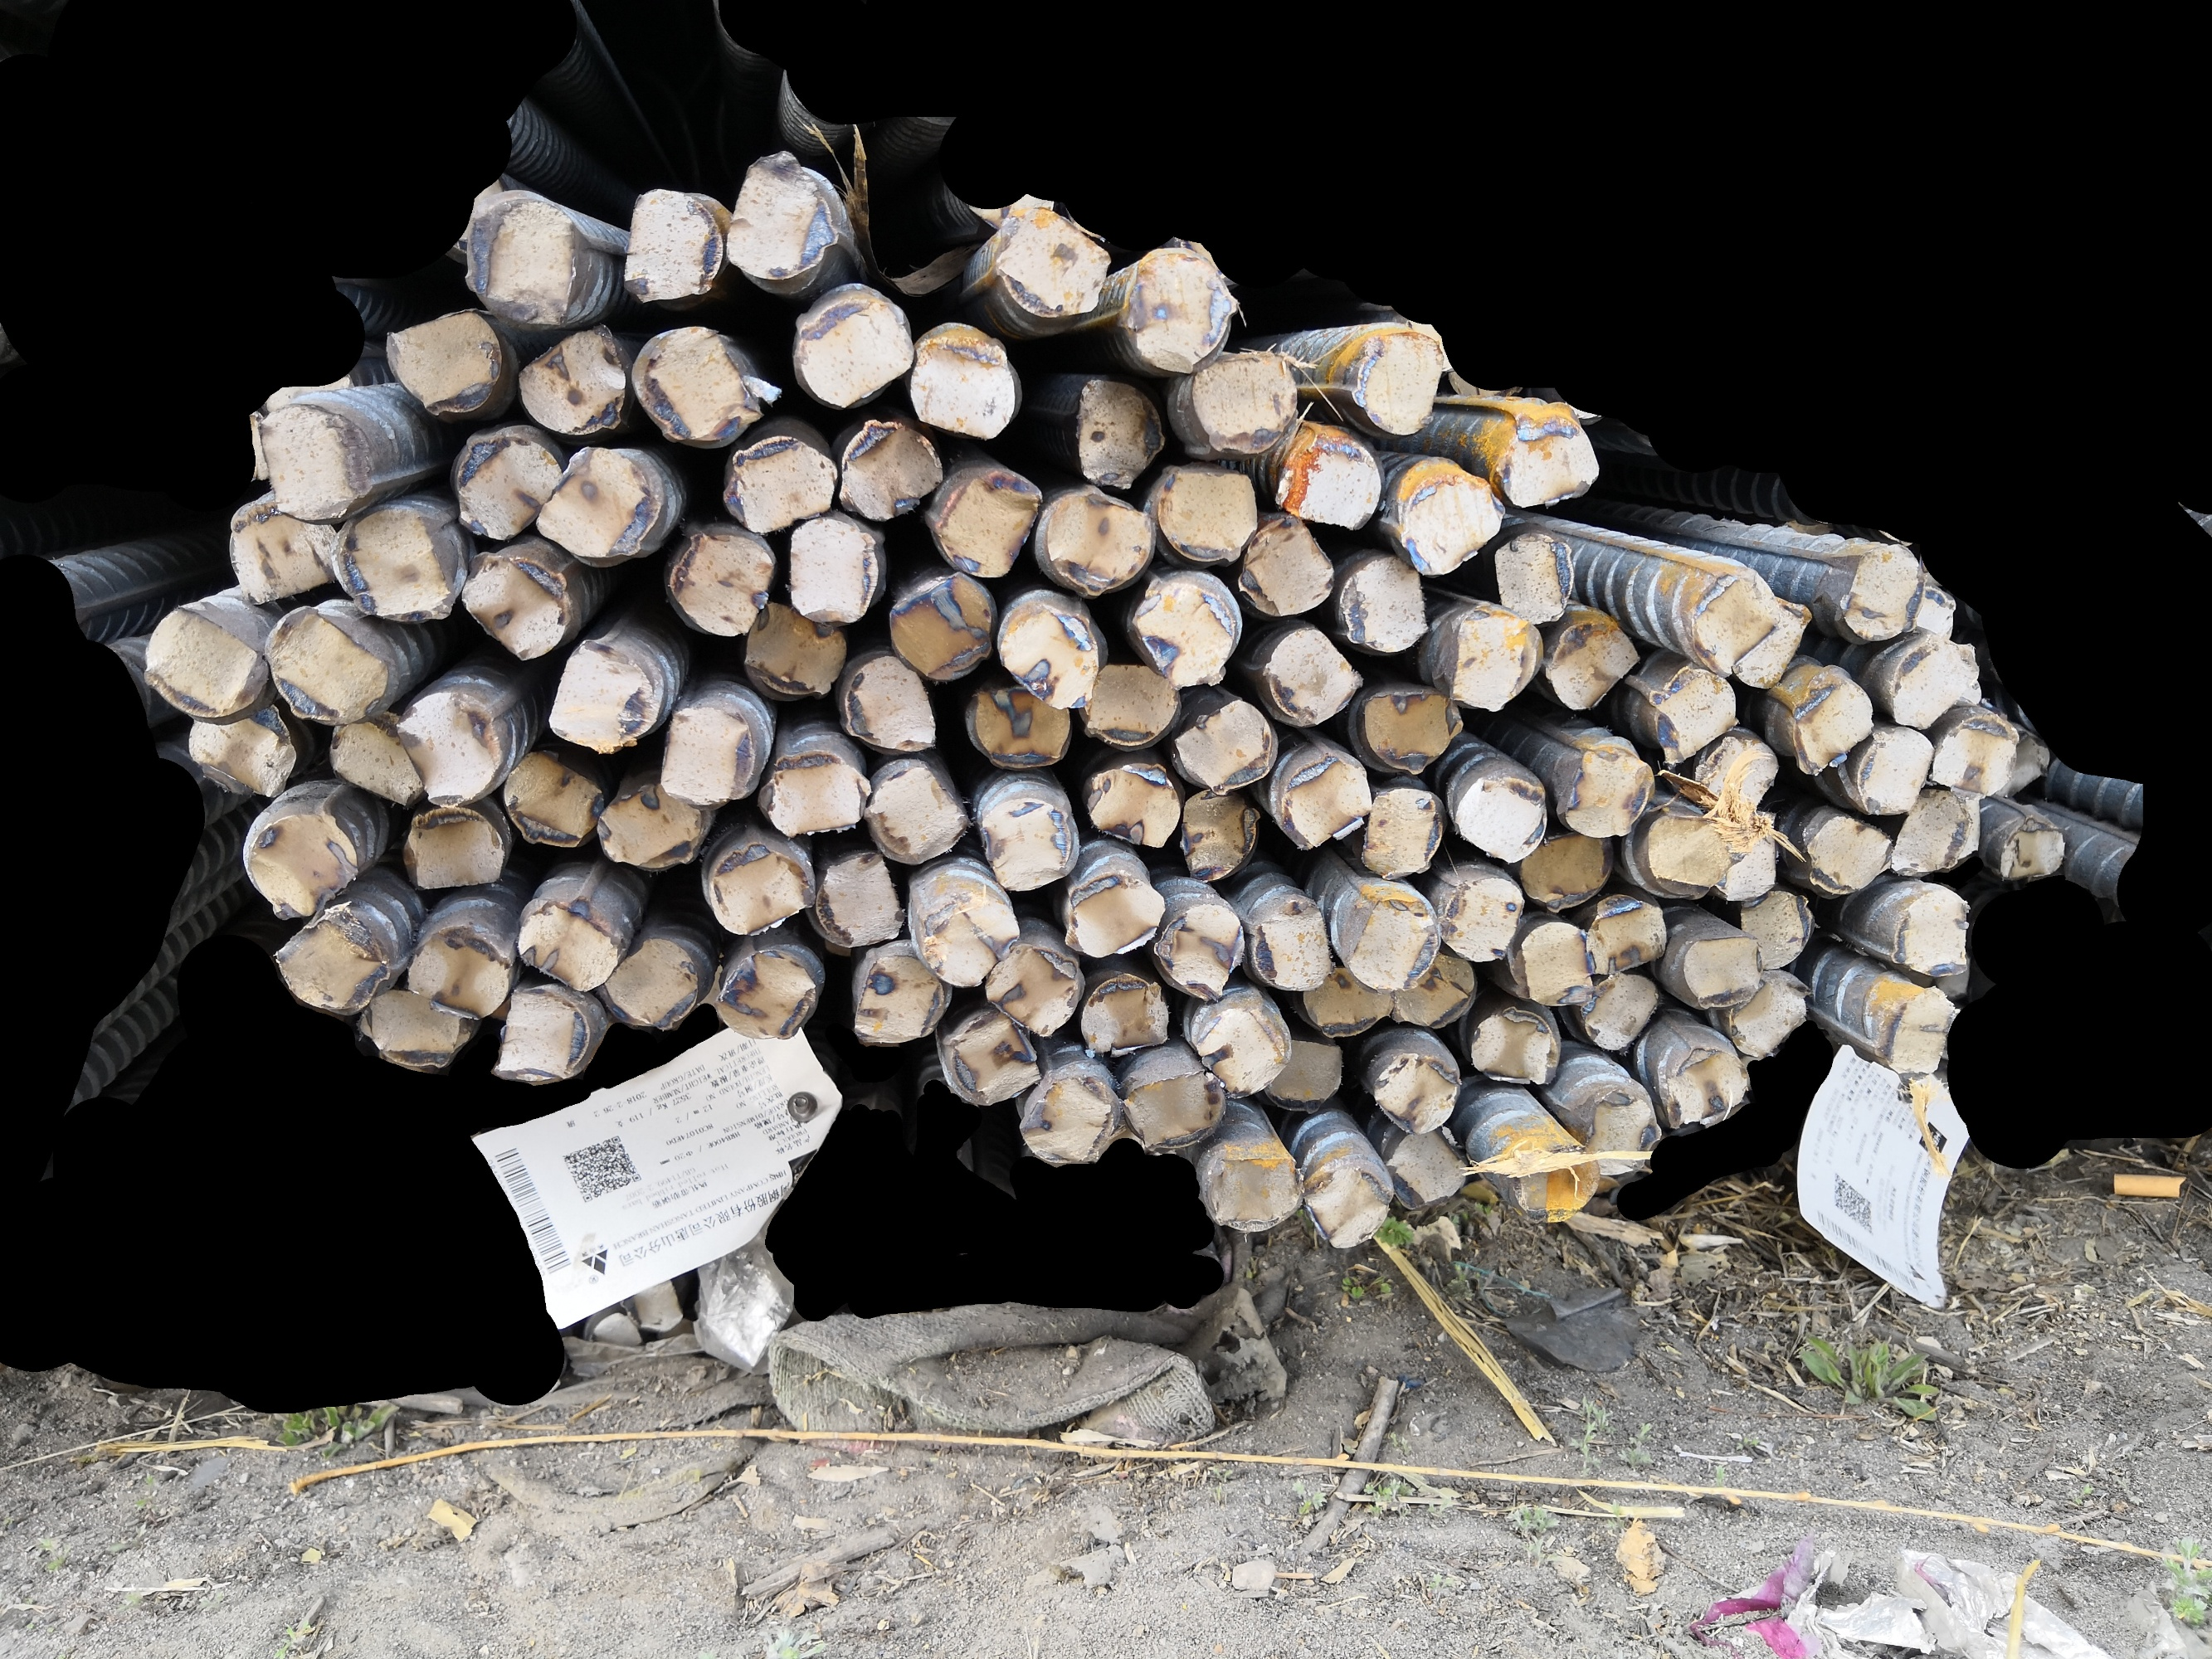rebar: (722, 143, 847, 289), (629, 321, 769, 450), (1117, 239, 1246, 378), (258, 603, 392, 730), (460, 185, 577, 329), (138, 601, 270, 727), (530, 439, 664, 563), (253, 399, 382, 526), (793, 288, 919, 411), (988, 202, 1112, 328), (331, 502, 455, 624), (392, 687, 509, 816), (380, 303, 509, 420), (221, 493, 350, 608), (546, 633, 662, 758), (512, 319, 633, 439), (906, 868, 1023, 992), (905, 321, 1020, 444), (267, 903, 394, 1014), (1123, 572, 1239, 692), (242, 805, 364, 918), (885, 563, 999, 685), (619, 181, 727, 308), (450, 427, 565, 545), (720, 425, 842, 537), (1391, 465, 1508, 580), (1185, 983, 1293, 1107), (1478, 408, 1605, 512), (1191, 345, 1304, 462), (861, 756, 976, 870), (458, 551, 575, 662), (666, 523, 777, 640), (931, 467, 1042, 584), (1269, 425, 1388, 535), (1150, 457, 1264, 570), (988, 599, 1102, 711), (1041, 479, 1156, 589), (830, 415, 947, 523), (1067, 373, 1170, 495), (741, 598, 854, 704), (838, 647, 943, 762), (967, 791, 1084, 894), (784, 511, 885, 629), (354, 983, 481, 1077), (500, 744, 608, 854), (485, 983, 596, 1089), (706, 836, 819, 941), (180, 704, 300, 802), (1257, 622, 1365, 730), (1232, 511, 1339, 620), (760, 744, 879, 842), (1684, 563, 1781, 681), (849, 939, 953, 1049), (981, 939, 1091, 1044), (401, 924, 514, 1025), (1351, 324, 1449, 439), (593, 779, 711, 873), (657, 702, 760, 810), (1170, 694, 1278, 796), (1332, 549, 1435, 657), (962, 678, 1082, 770), (809, 845, 910, 955), (1114, 1063, 1231, 1157), (1055, 868, 1171, 962), (1440, 612, 1546, 714), (594, 932, 702, 1033), (1537, 617, 1645, 718), (1780, 674, 1881, 782), (1645, 660, 1743, 772), (1637, 805, 1743, 906), (1881, 781, 1987, 882), (709, 945, 819, 1042), (397, 800, 509, 896), (1342, 890, 1445, 993), (1560, 739, 1659, 845), (512, 897, 621, 995), (1150, 897, 1248, 1006), (1447, 769, 1555, 866), (1018, 1072, 1123, 1171), (1276, 749, 1375, 854), (943, 1004, 1041, 1110), (1075, 657, 1185, 751), (1832, 540, 1931, 643), (1353, 681, 1459, 777), (1794, 807, 1898, 903), (1919, 709, 2022, 805), (1077, 758, 1184, 850), (1884, 638, 1984, 735), (1499, 1138, 1607, 1227), (1297, 1157, 1398, 1251), (1686, 728, 1787, 823), (1245, 896, 1339, 995), (1356, 782, 1449, 884), (1201, 1150, 1307, 1237), (1075, 969, 1175, 1061), (1658, 1042, 1757, 1134), (1365, 1049, 1466, 1138), (1431, 870, 1523, 965), (326, 718, 425, 807), (1517, 826, 1616, 915), (1177, 784, 1262, 887), (1492, 528, 1578, 631), (1464, 1002, 1562, 1091), (1576, 1084, 1668, 1176), (1581, 889, 1673, 981), (1731, 594, 1816, 694), (1851, 721, 1937, 821), (1576, 964, 1665, 1056), (1724, 969, 1813, 1061), (1893, 882, 1975, 981), (1255, 1033, 1351, 1117), (1511, 917, 1597, 1009), (1877, 985, 1959, 1080), (1300, 962, 1400, 1040), (1382, 1124, 1471, 1211), (1677, 929, 1769, 1012), (1705, 809, 1783, 906), (1736, 882, 1816, 976), (1389, 946, 1480, 1028), (1991, 812, 2074, 887), (1984, 725, 2055, 803), (1907, 580, 1966, 647), (1942, 660, 1991, 709)
